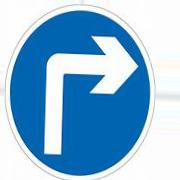right: (5, 3, 155, 178)
